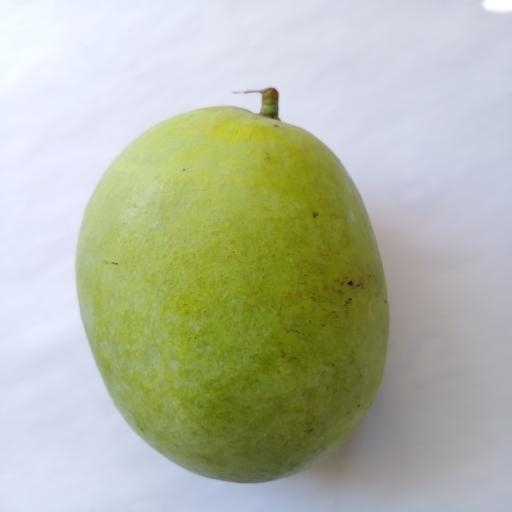mango-unripe: (53, 57, 400, 499)
